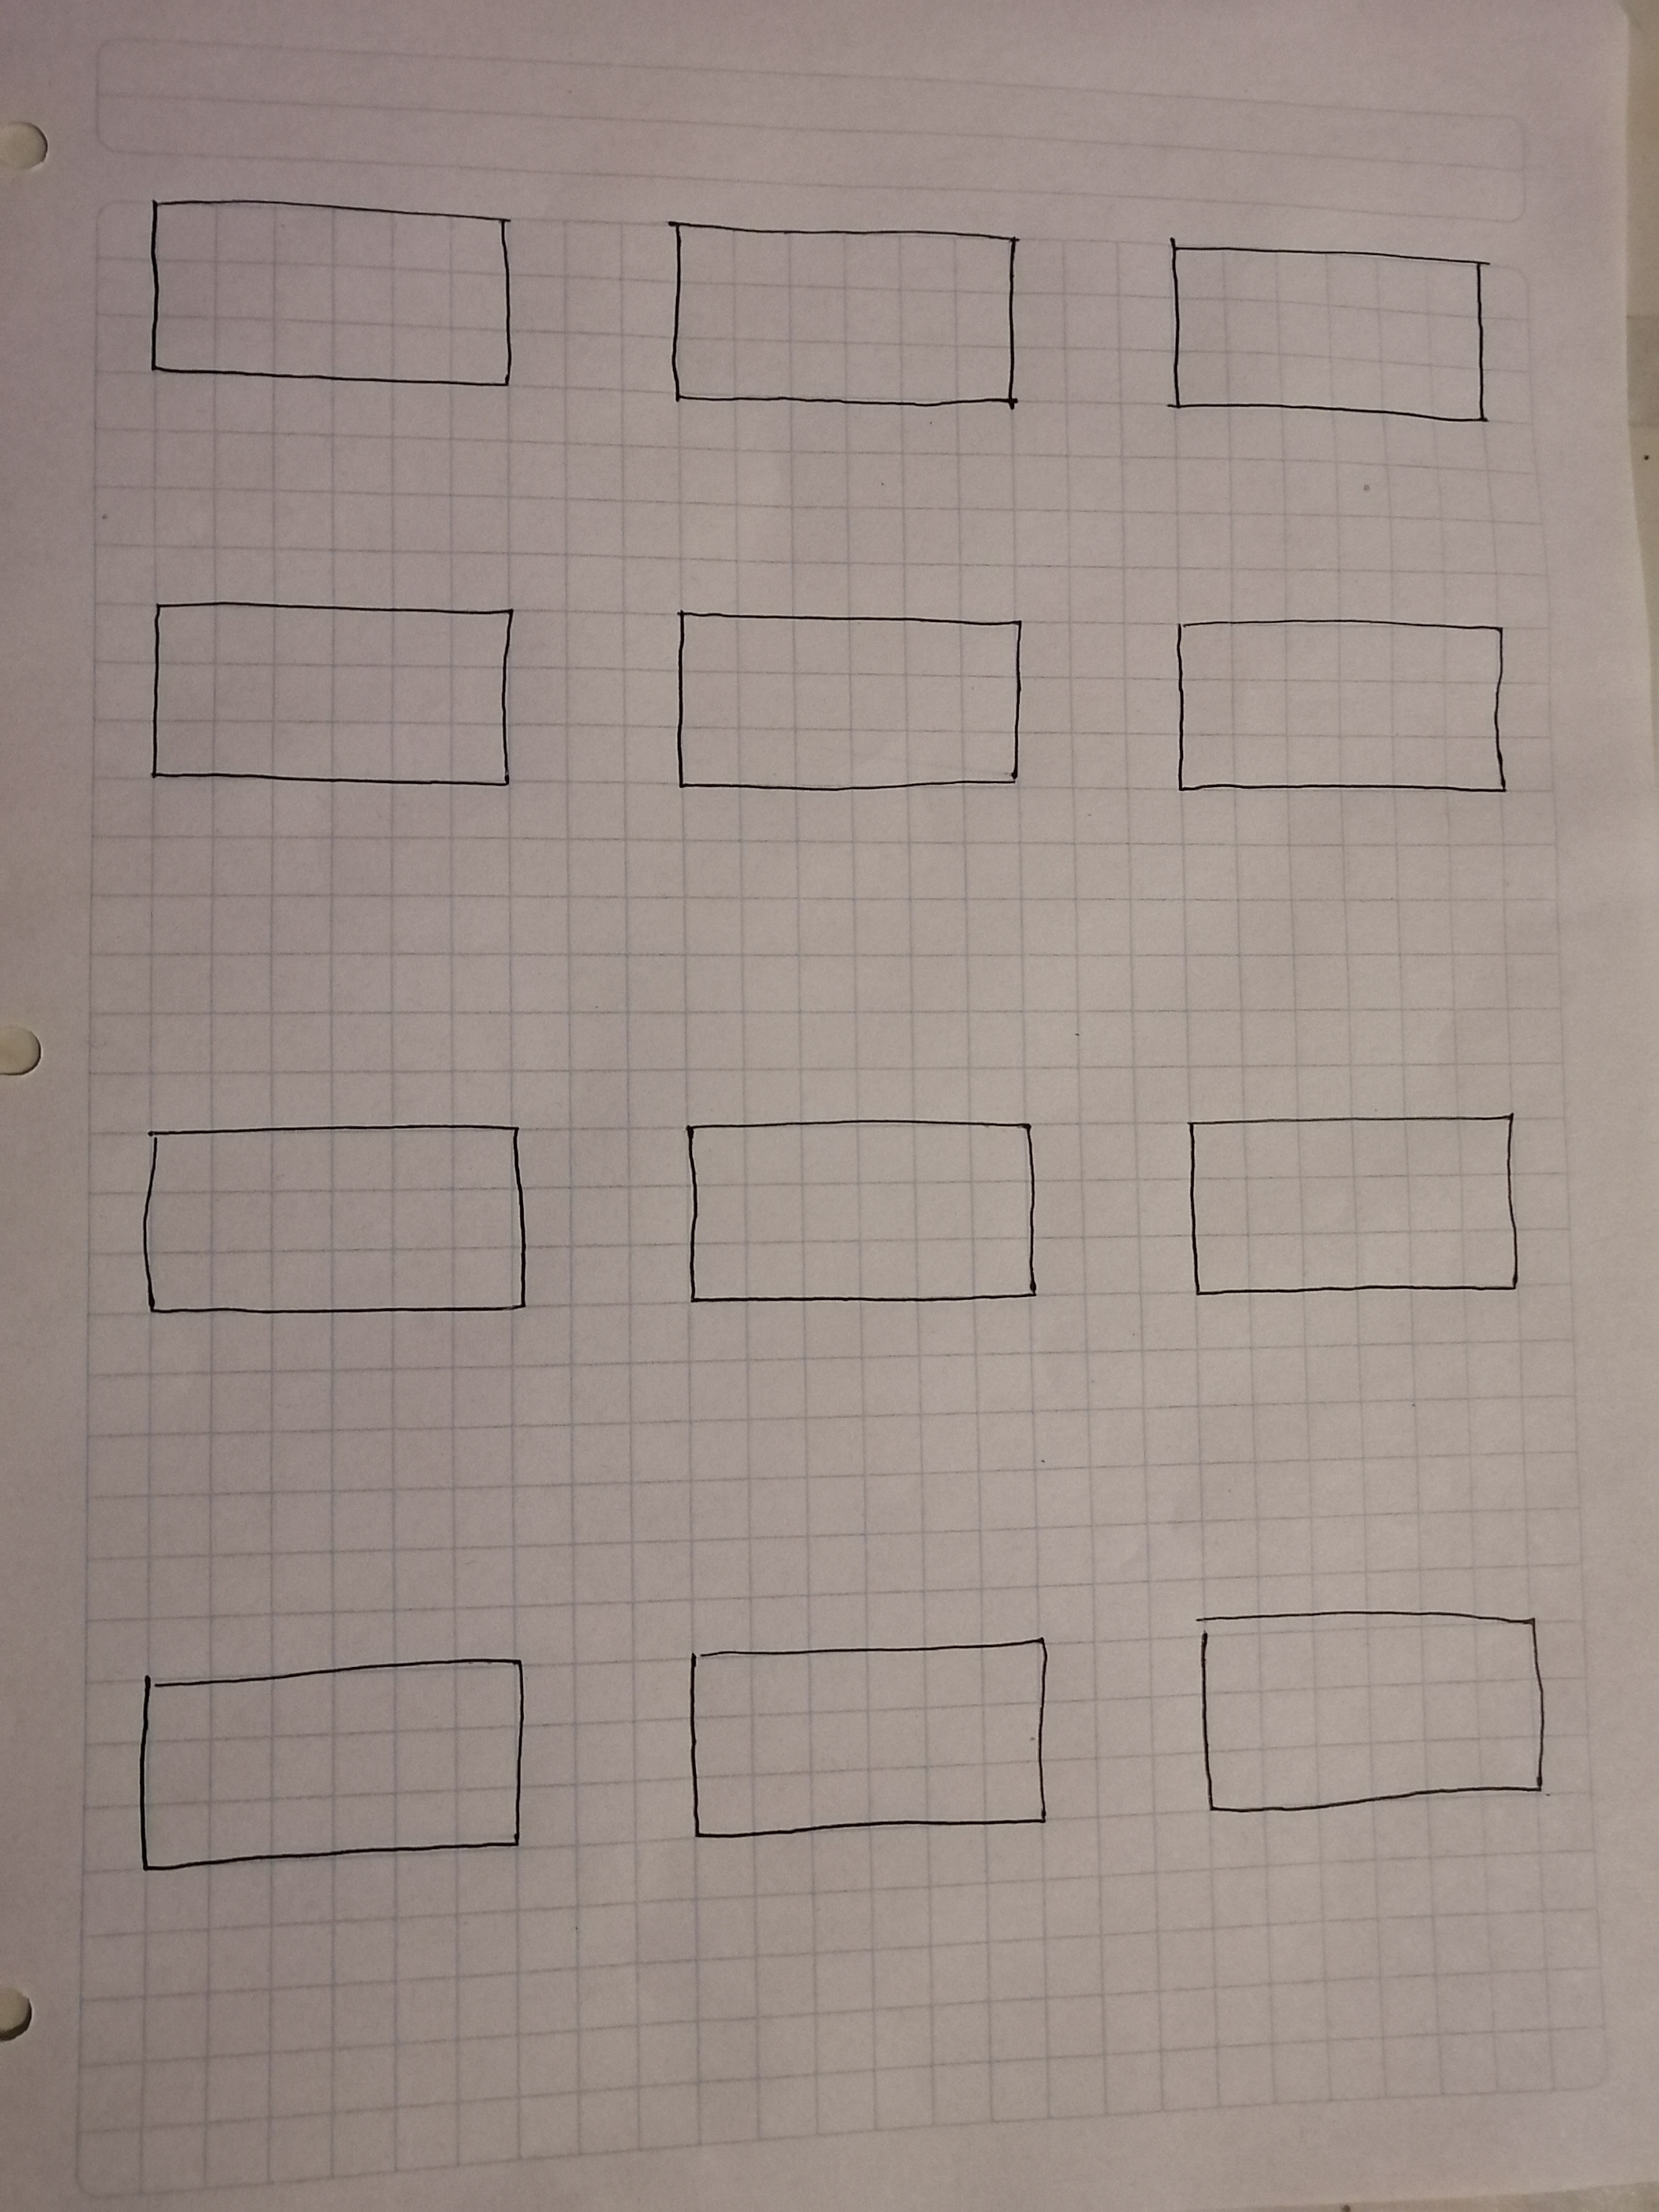process: (106, 1627, 582, 1923), (127, 556, 563, 859), (110, 167, 566, 446), (631, 573, 1077, 848), (631, 195, 1066, 463), (1171, 1592, 1600, 1855), (645, 1092, 1080, 1348), (1127, 212, 1542, 477), (106, 1106, 566, 1345), (1152, 596, 1542, 852), (1145, 1089, 1546, 1334), (664, 1623, 1084, 1855)
